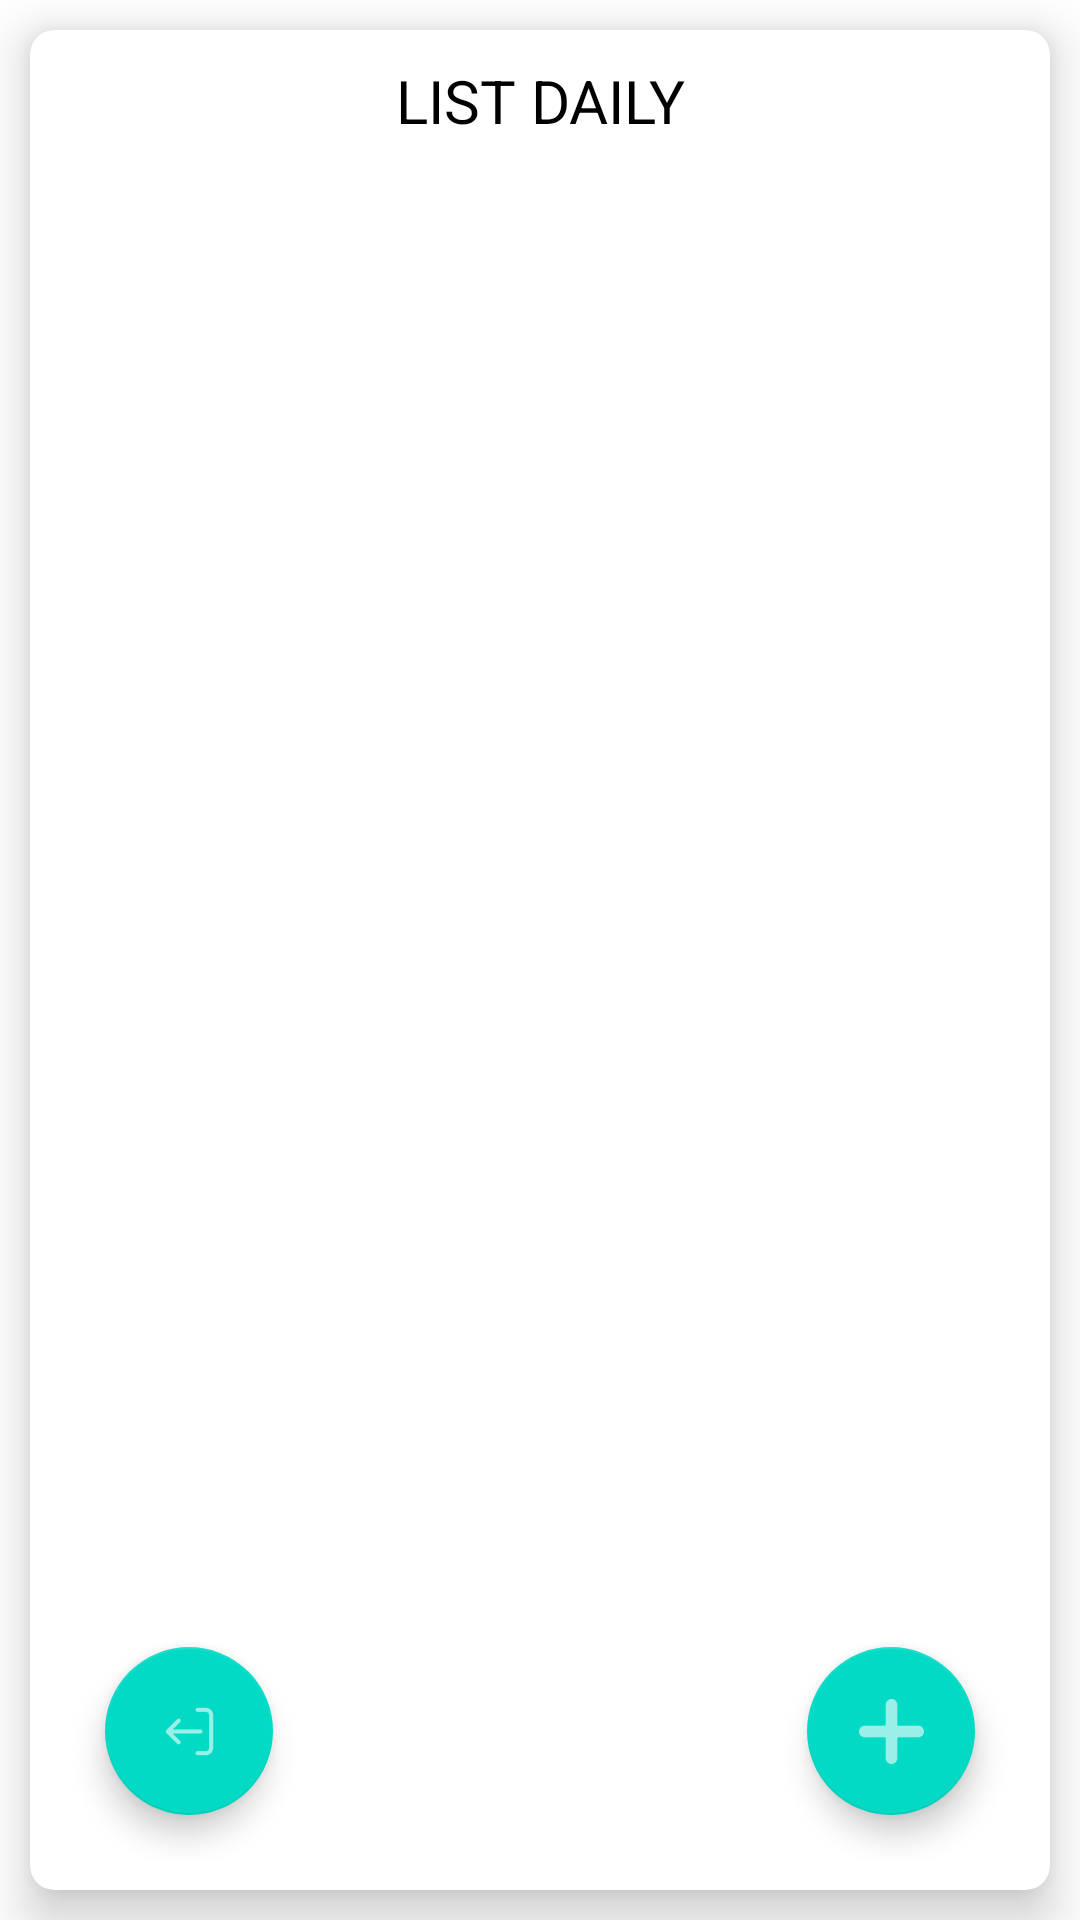

Screen size 1080x1920. Icon name, then its center in pixels as point (x, y):
add: point (891, 1731)
